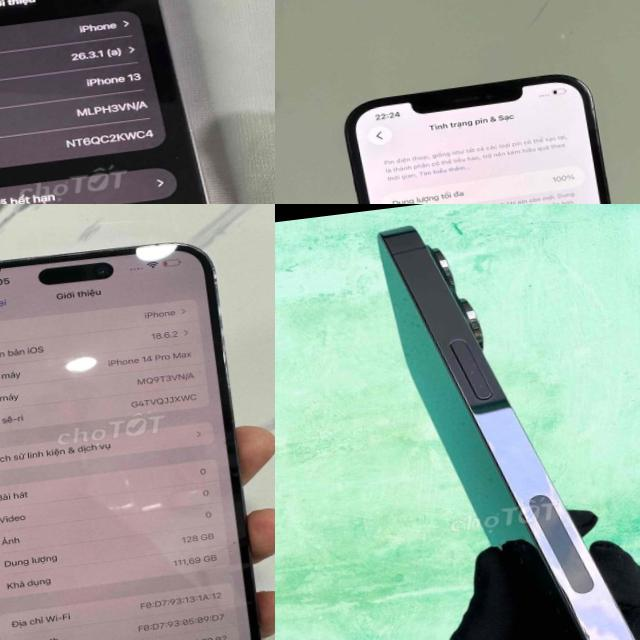gen_12_13: (0, 0, 271, 204), (337, 57, 640, 204)
gen_14: (354, 204, 640, 640), (0, 224, 274, 640)
screen_defect: (0, 247, 18, 293)
